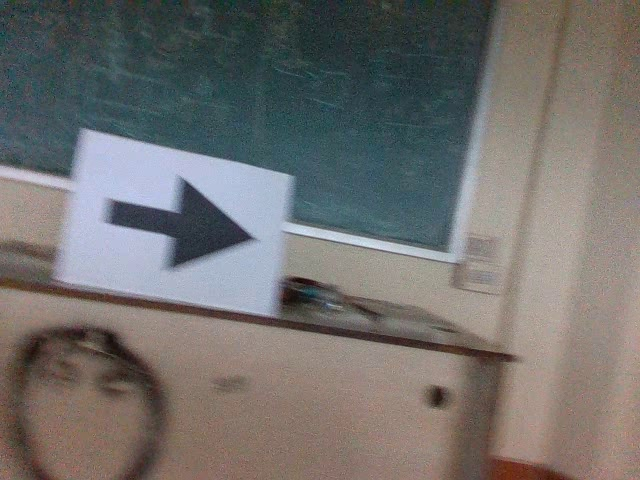Right: (90, 171, 261, 276)
